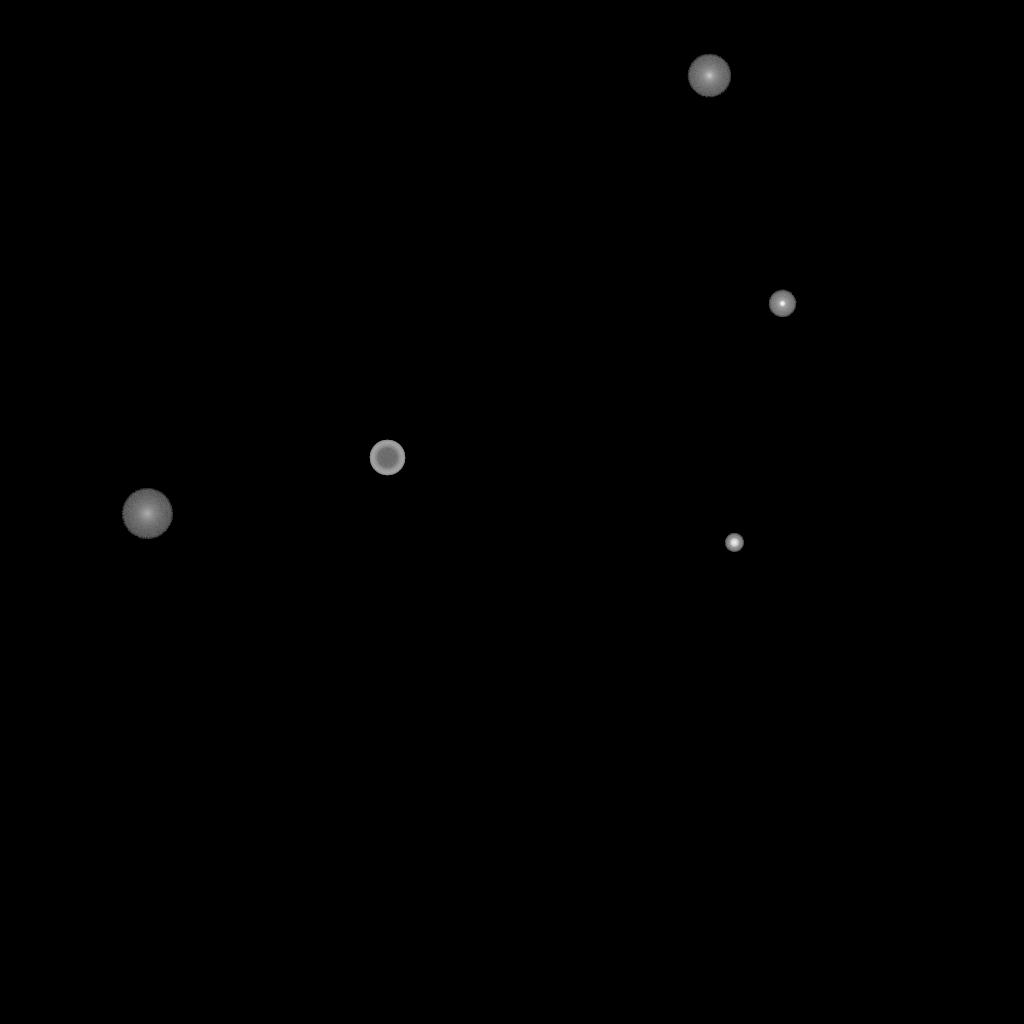depth:-10: (768, 290, 796, 318)
depth:-20: (725, 534, 743, 552)
depth:-60: (369, 440, 405, 476)
depth:10: (687, 54, 731, 98)
depth:20: (121, 489, 173, 539)
